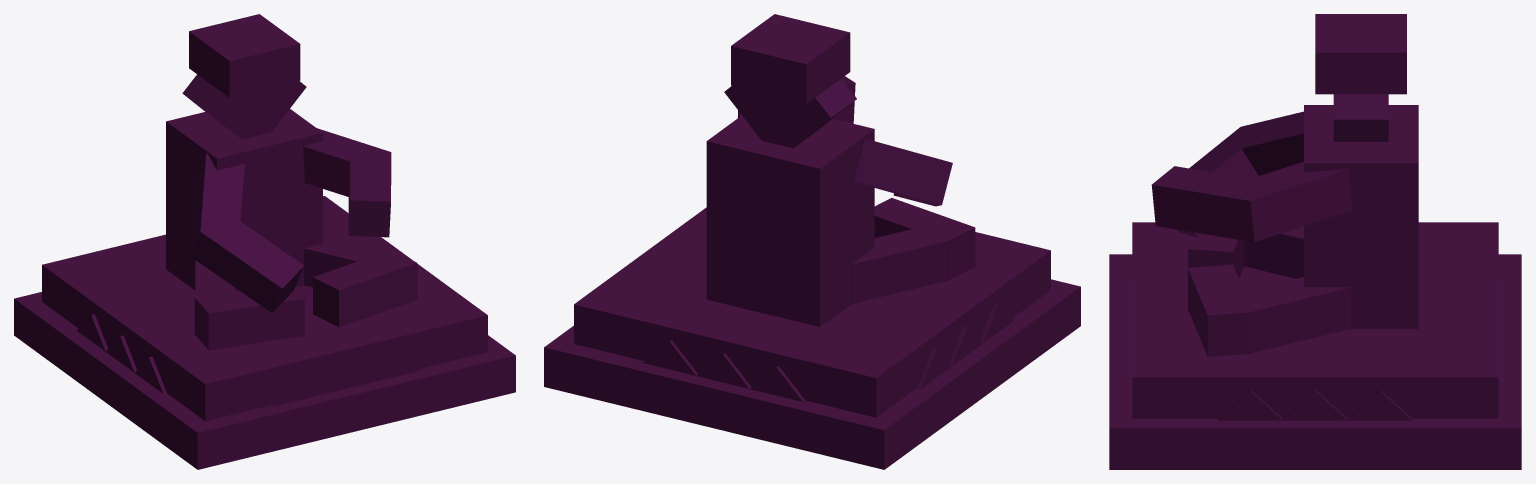
Rendered from HeresyIdol.fbx.
3 views of the same model, side by side, from view 1: azimuth 30°, elevation 25°; view 2: azimuth 150°, elevation 25°; view 3: azimuth 270°, elevation 25° (orthographic). The views are drawn at different scales.
Visible parts, largest first — view 1: Cube.001; view 2: Cube.001; view 3: Cube.001.
Part boxes in pixels (box(x1,y1,x2,y2)): Cube.001: box(14, 14, 515, 469); Cube.001: box(544, 14, 1080, 469); Cube.001: box(1109, 14, 1521, 469).
Size of the model in its own units: 180 by 168 by 180.
